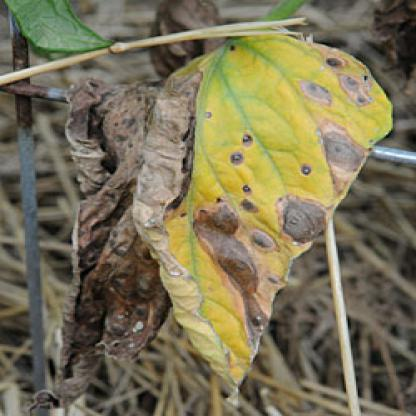tomato early blight leaf: (77, 35, 394, 381)
